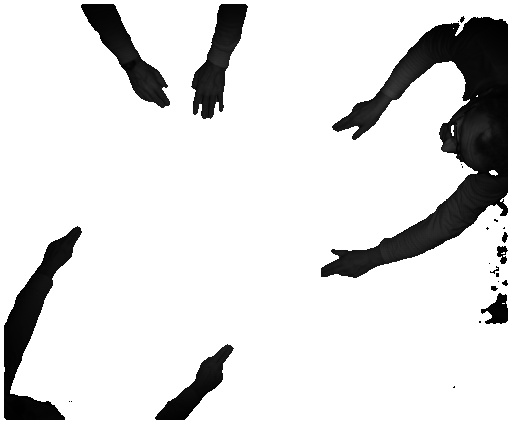hand: (328, 99, 387, 143), (41, 224, 87, 275), (193, 344, 239, 395), (184, 70, 231, 119), (128, 63, 175, 111), (320, 247, 374, 279)
